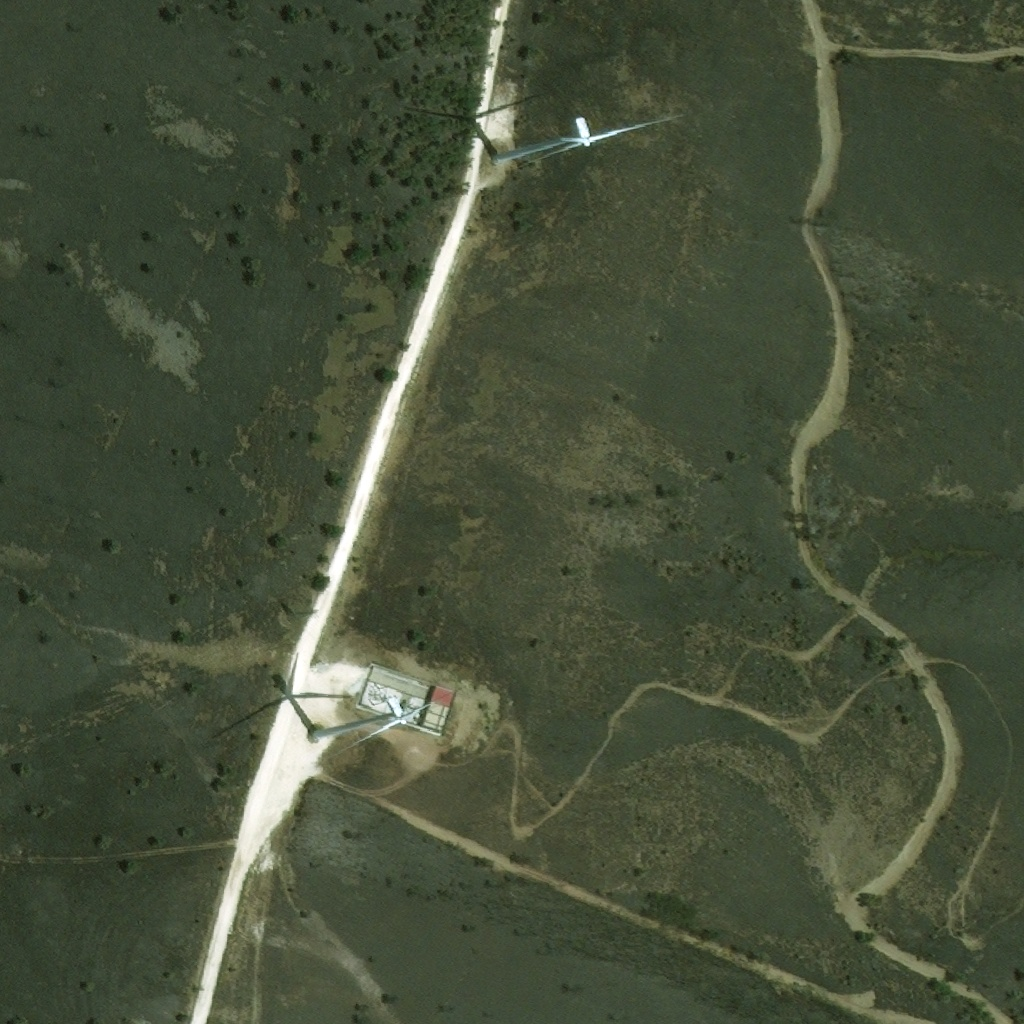0 no-damage: (420, 683, 456, 731)
